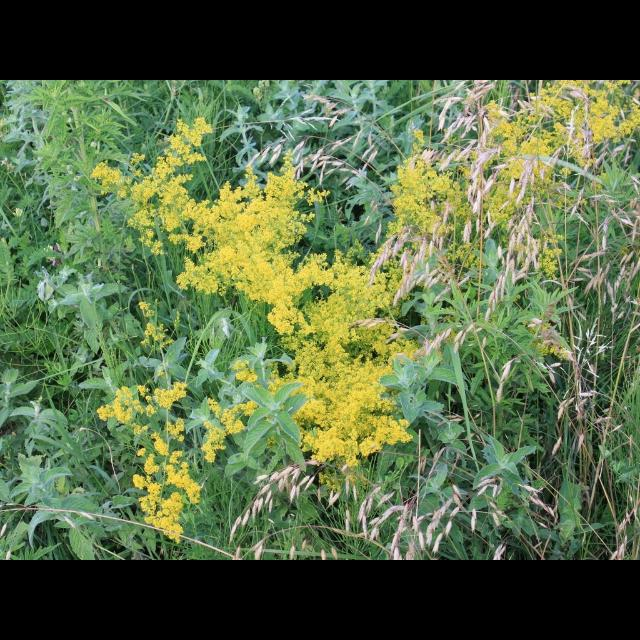Flower: (91, 87, 639, 543)
